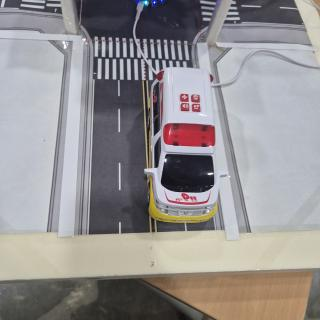Ambulance: (144, 67, 227, 223)
